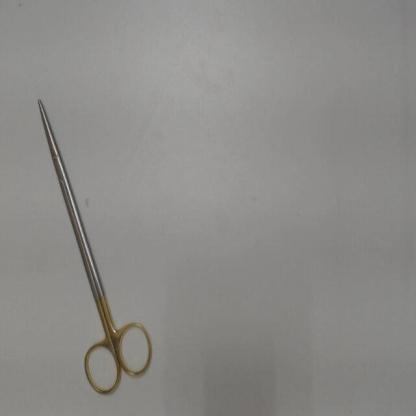7 Metzenbaum Scissors: (33, 90, 155, 401)
